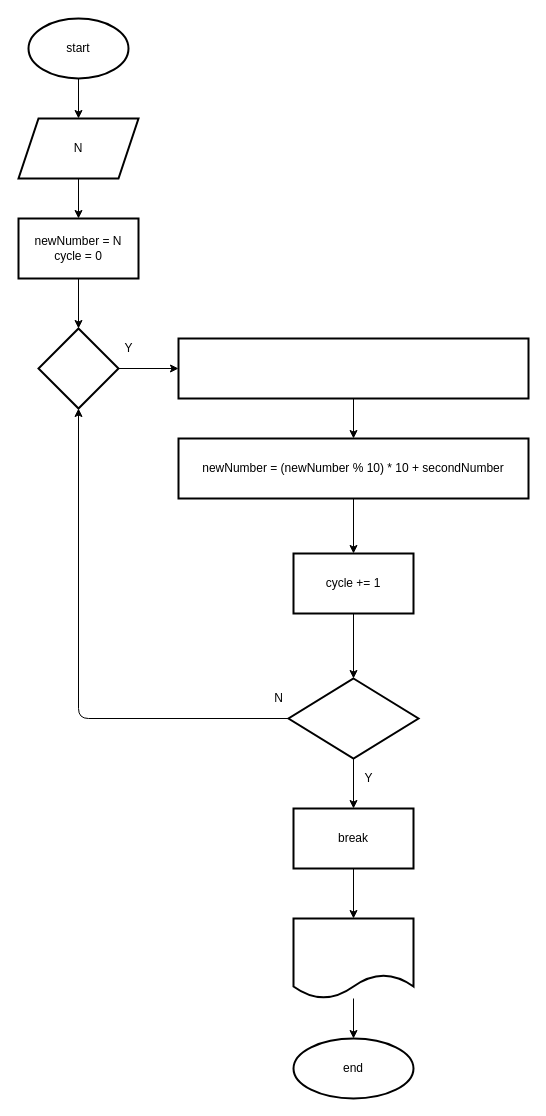
Image size: 546x1116. Some labels were removed from this diagram. The centre of each missing label's shape, as x and y in pixels:
"cycle" goes at point 353,958.
"newNumber == N" goes at point 353,718.
"secondNumber = (newNumber // 10 + newNumber % 10) % 10" goes at point 353,368.
"True" goes at point 78,368.
